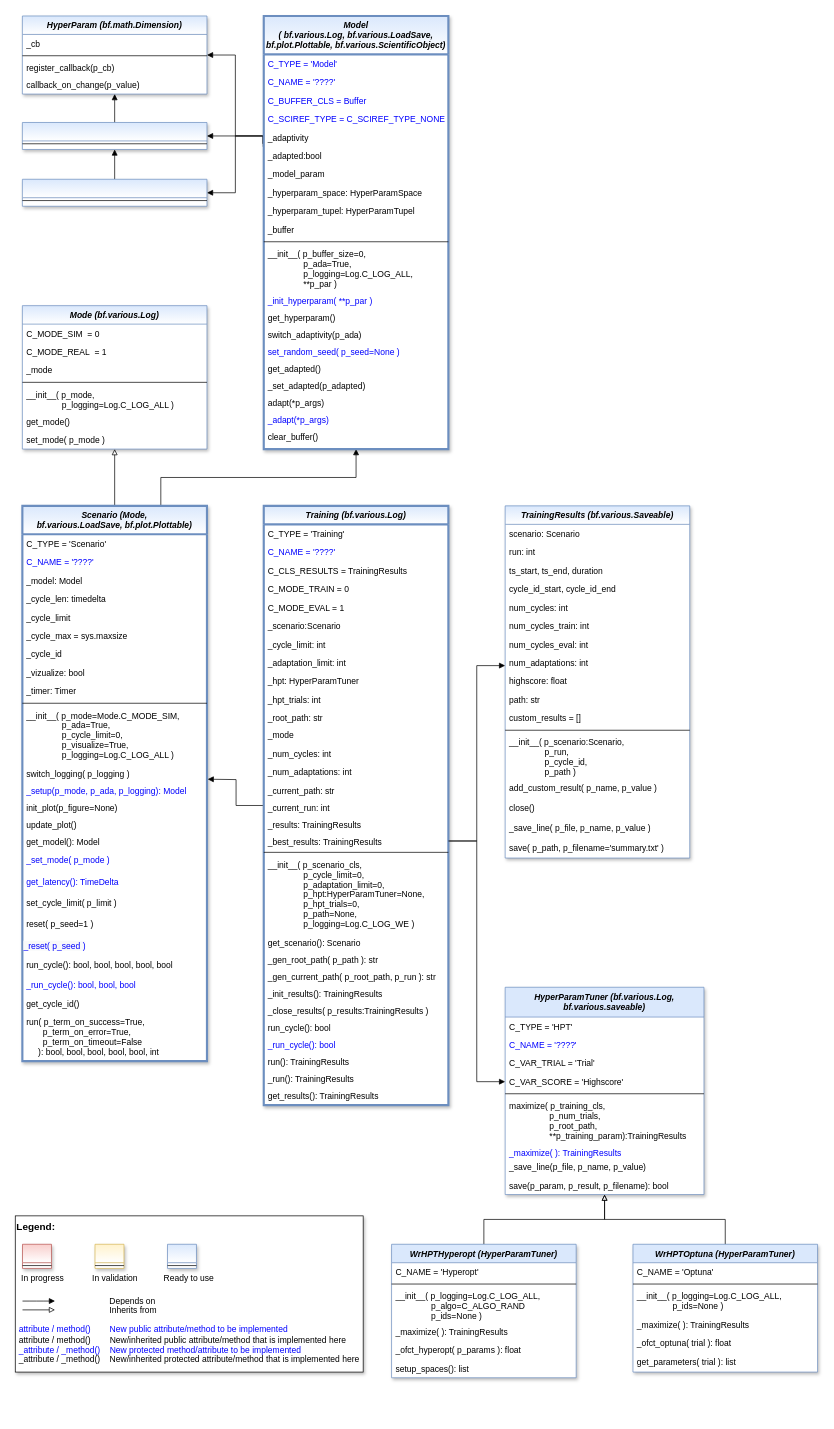
Some shapes in this 834 by 1429 pixel diagram are drawn without their labels. The centre of each missing label's shape, as x and y in pixels:
"HyperParamSpace (bf.math.ESpace)" belongs at (x=115, y=136).
"HyperParamTuple (bf.math.Element)" belongs at (x=115, y=193).
